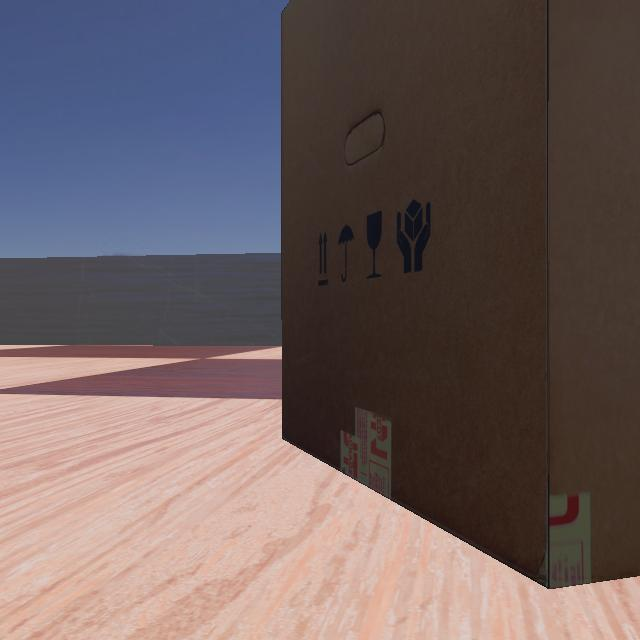cardboard-box: (208, 1, 640, 640)
